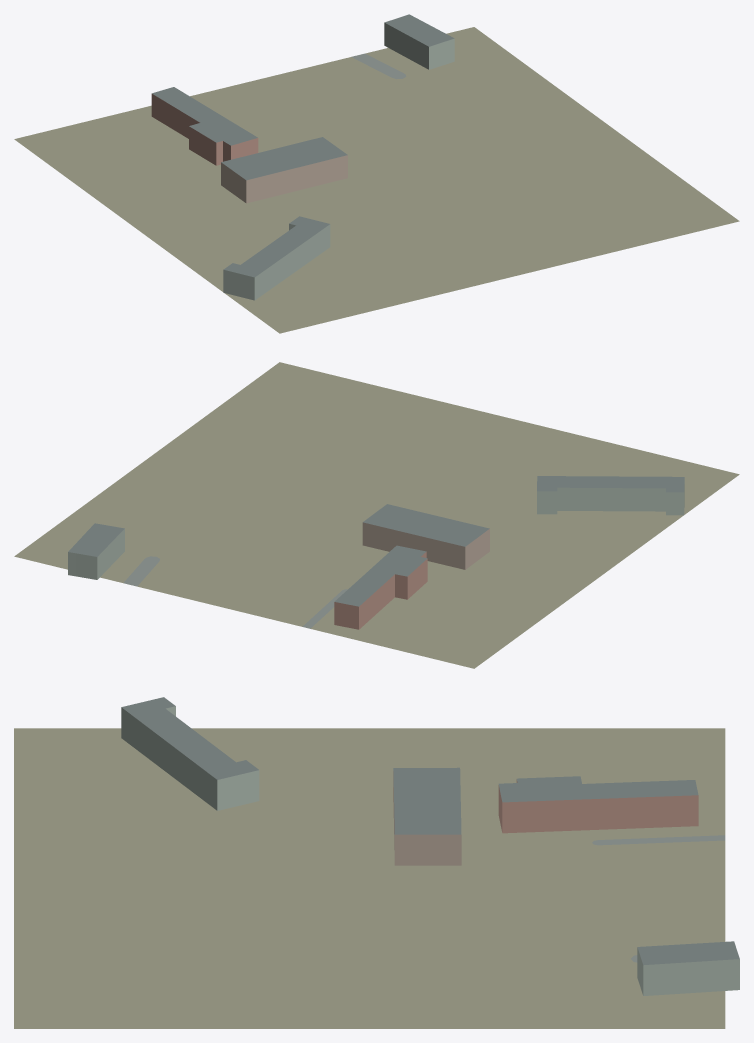
The model's file is sector-2_0.glb.
3 views of the same model, one above another, from view 1: azimuth 30°, elevation 25°; view 2: azimuth 150°, elevation 25°; view 3: azimuth 270°, elevation 25° (orthographic). The views are drawn at different scales.
Parts seen in each view (by area): view 1: 2:0-ground, 2:0-facade, 2:0-roof; view 2: 2:0-ground, 2:0-facade, 2:0-roof, 2:0-road; view 3: 2:0-ground, 2:0-facade, 2:0-roof, 2:0-road.
Part boxes in pixels (x1=…): 2:0-ground: x1=14, y1=27, x2=739, y2=333; 2:0-facade: x1=151, y1=22, x2=454, y2=300; 2:0-roof: x1=152, y1=14, x2=454, y2=277; 2:0-ground: x1=14, y1=362, x2=739, y2=668; 2:0-facade: x1=68, y1=484, x2=684, y2=629; 2:0-roof: x1=68, y1=476, x2=684, y2=606; 2:0-road: x1=123, y1=556, x2=347, y2=628; 2:0-ground: x1=14, y1=728, x2=725, y2=1028; 2:0-facade: x1=121, y1=706, x2=739, y2=995; 2:0-roof: x1=121, y1=697, x2=739, y2=965; 2:0-road: x1=592, y1=835, x2=725, y2=962.
Bounding box in the file's own units: 200 × 9.6 × 204.
